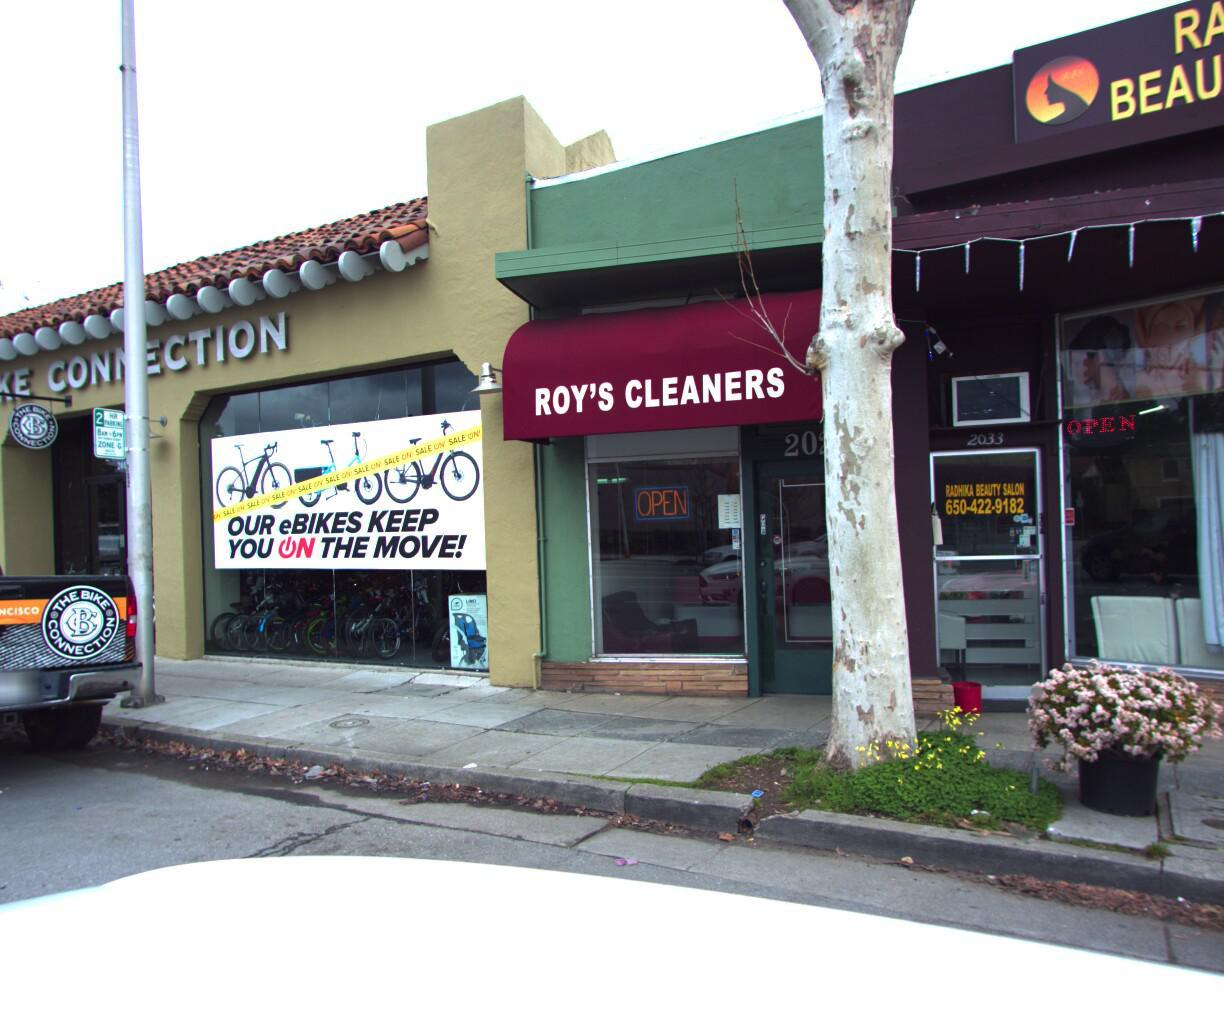car: (0, 465, 176, 847)
